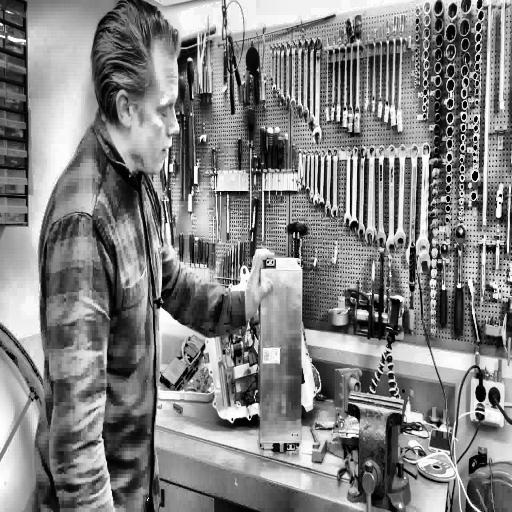battery_module: (261, 268, 302, 444)
